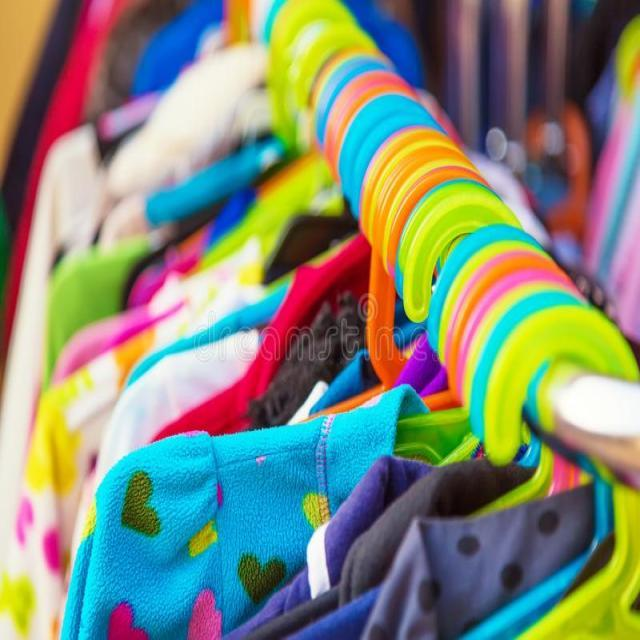clothes: (19, 90, 382, 640), (153, 290, 640, 640)
